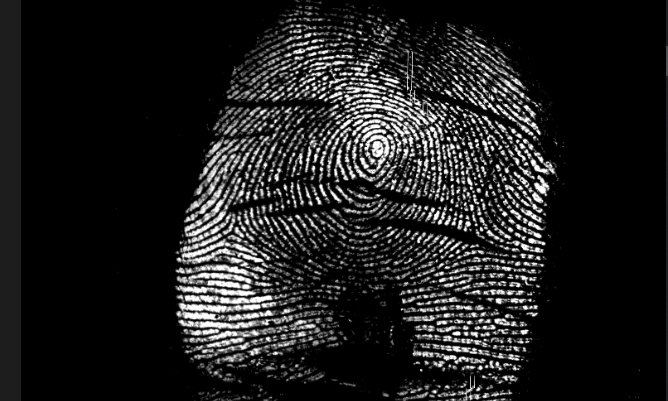deltas: (454, 214, 502, 259), (215, 202, 252, 253)
nucleo: (361, 130, 390, 160)
